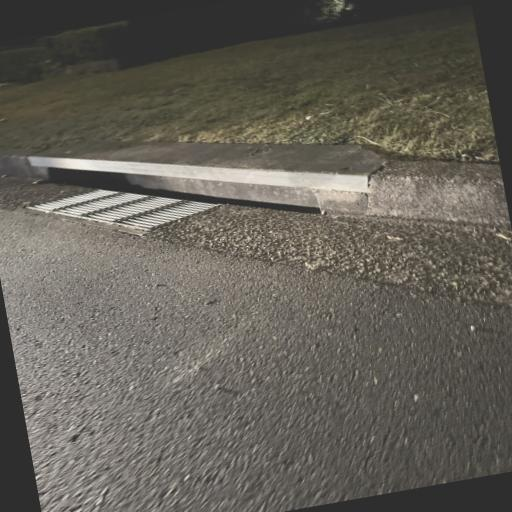kerb: (144, 161, 512, 317), (15, 140, 392, 238), (0, 145, 89, 208)
